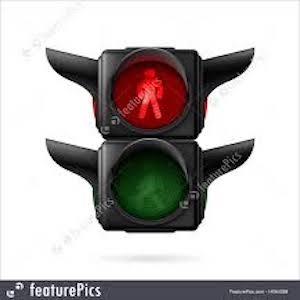red: (131, 64, 169, 124)
